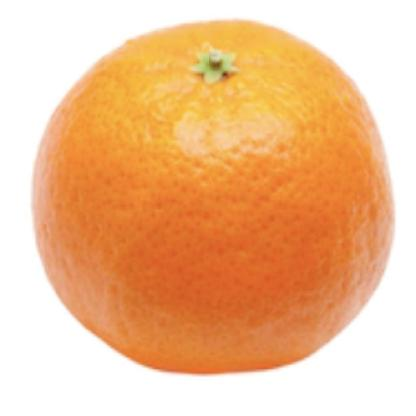fresh: (30, 18, 393, 377)
